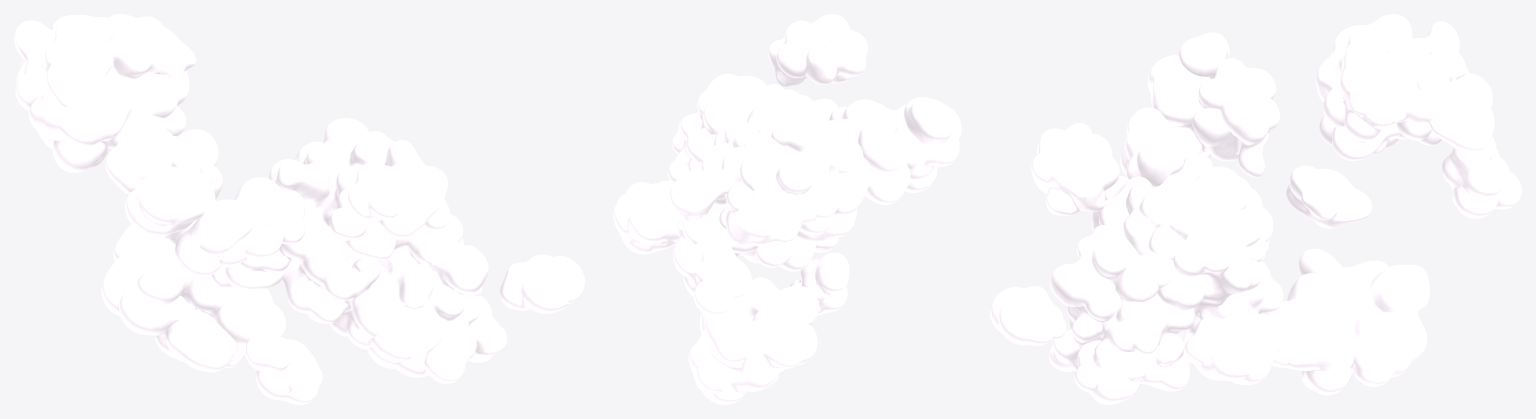
Rendered from stylized-clouds-hq.glb.
The picture shows the model from 3 angles, left to right: view 1: azimuth 30°, elevation 25°; view 2: azimuth 150°, elevation 25°; view 3: azimuth 270°, elevation 25°; orthographic projection. The views are drawn at different scales.
Visible parts, largest first — view 1: defaultMaterial; view 2: defaultMaterial; view 3: defaultMaterial.
Boxes of the visible parts, x1,y1,x2,y2 form: defaultMaterial: [14, 14, 584, 404]; defaultMaterial: [613, 14, 961, 404]; defaultMaterial: [990, 14, 1521, 404].
Bounding box in the file's own units: 15.4 × 13.69 × 20.29.
Materials: 1 (1 with a texture image).
